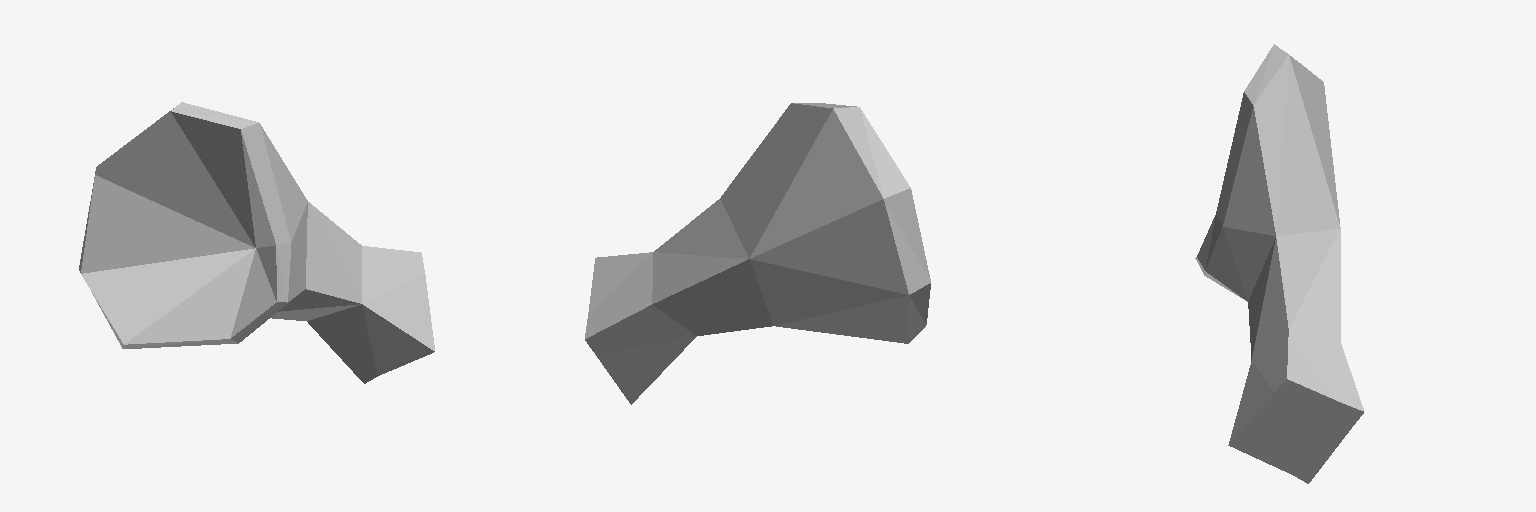
File: sh_oreja_de.obj
3 views of the same model, side by side, from view 1: azimuth 30°, elevation 25°; view 2: azimuth 150°, elevation 25°; view 3: azimuth 270°, elevation 25° (orthographic).
Visible parts, largest first — view 1: Shrek.002; view 2: Shrek.002; view 3: Shrek.002.
Boxes of the visible parts, box(x1,y1,x2,y2) form: Shrek.002: box(79, 102, 434, 383); Shrek.002: box(585, 103, 930, 404); Shrek.002: box(1195, 44, 1364, 483).
Size of the model in its own units: 6.13 by 5.83 by 2.66.